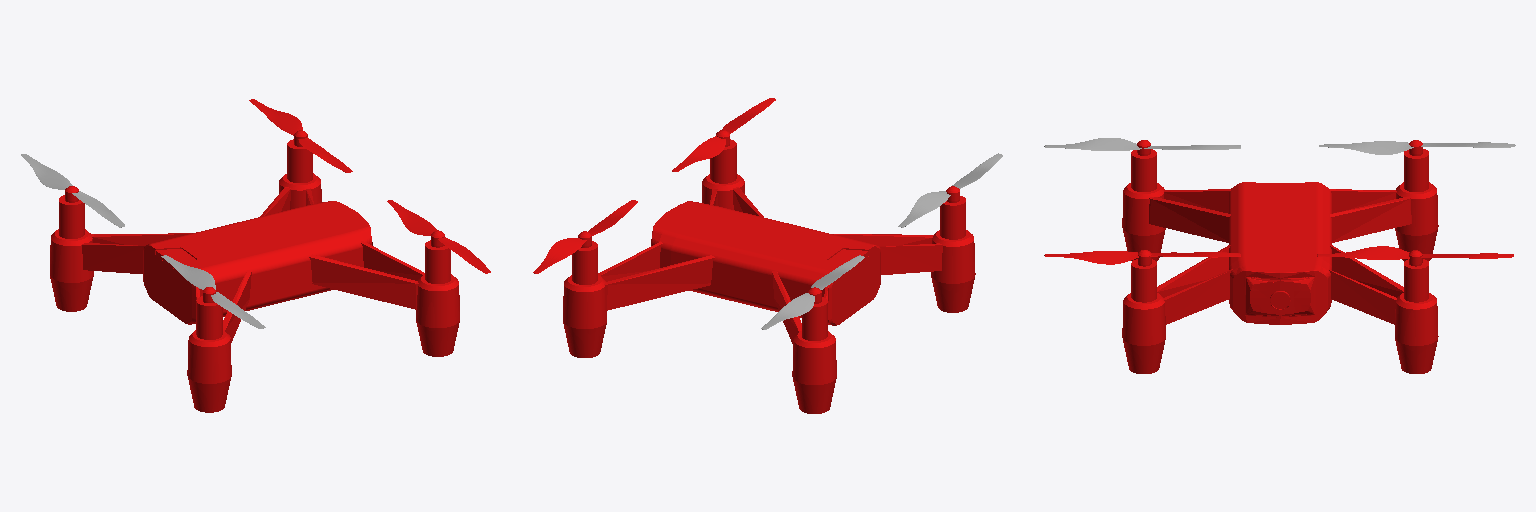
The robot description file, URDF, robot "iris":
<?xml version="1.0" ?>
<robot name="iris">

  <material name="grey">
    <color rgba=".7 .7 .7 1"/>
  </material> 

  <material name="green">
    <color rgba=".1 .8 .1 1"/>
  </material> 

  <material name="blue">
    <color rgba=".3 .5 .8 1"/>
  </material> 

  <material name="red">
    <color rgba=".9 .1 .1 1"/>
  </material> 

  <joint name="rotor_0_joint" type="revolute">
    <parent link="base_link"/>
    <child link="rotor_0"/>
    <origin xyz="0.0628  -0.0698   0.013" rpy="0 0 0"/>
    <axis xyz="0 0 1"/>
    <limit lower="-1e+16" upper="1e+16" effort="0.0" velocity="0.0"/>
  </joint>
  <joint name="rotor_1_joint" type="revolute">
    <parent link="base_link"/>
    <child link="rotor_1"/>
    <origin xyz="-0.0698   0.0705    0.013" rpy="0 0 0"/>
    <axis xyz="0 0 1"/>
    <limit lower="-1e+16" upper="1e+16" effort="0.0" velocity="0.0"/>
  </joint>
  <joint name="rotor_2_joint" type="revolute">
    <parent link="base_link"/>
    <child link="rotor_2"/>
    <origin xyz="0.0628  0.0698  0.013" rpy="0 0 0"/>
    <axis xyz="0 0 1"/>
    <limit lower="-1e+16" upper="1e+16" effort="0.0" velocity="0.0"/>
  </joint>
  <joint name="rotor_3_joint" type="revolute">
    <parent link="base_link"/>
    <child link="rotor_3"/>
    <origin xyz="-0.0688  -0.0698   0.013" rpy="0 0 0"/>
    <axis xyz="0 0 1"/>
    <limit lower="-1e+16" upper="1e+16" effort="0.0" velocity="0.0"/>
  </joint>
  <link name="base_link">
    <!-- <inertial>
      <mass value="1.5"/>
      <origin xyz="0 0 0" rpy="0 0 0"/>
      <inertia ixx="0.029125" ixy="0" ixz="0" iyy="0.029125" iyz="0" izz="0.055225"/>
    </inertial> -->
    <collision name="base_link_inertia_collision">
      <origin xyz="0 0 -0.015" rpy="0 0 0"/>
      <geometry>
        <box size="0.10 0.04 0.03"/>
      </geometry>
    </collision>
    <visual>
      <origin xyz="0 0 0" rpy="0 0 0"/>
      <geometry>
        <!-- <mesh filename="package://tello_sim/model/meshes/tello_bo dy.stl" scale="1 1 1"/> -->
        <mesh filename="package://tello_sim/model/meshes/tello_body.dae" scale="1 1 1"/>
      </geometry>
      <material name="red"/> <!-- Added by [author] -->
    </visual>
  </link>
  <link name="rotor_0">
    <inertial>
      <mass value="0.005"/>
      <origin xyz="0 0 0" rpy="0 0 0"/>
      <inertia ixx="9.75e-07" ixy="0" ixz="0" iyy="0.000273104" iyz="0" izz="0.000274004"/>
    </inertial>
    <collision name="rotor_0_collision">
      <origin xyz="0 0 0" rpy="0 0 0"/>
      <geometry>
        <cylinder radius="0.04" length="0.005"/>
      </geometry>
    </collision>
    <visual name="rotor_0_visual">
      <origin xyz="0 0 0" rpy="0 0 0"/>
      <geometry>
        <mesh filename="package://tello_sim/model/meshes/tello_prop_ccw.stl" scale="1 1 1"/>
        <!-- <mesh filename="package://tello_sim/model/meshes/tello_prop_ccw.dae" scale="1 1 1"/> -->
      </geometry>
      <material name="red"/> <!-- Added by [author] -->
    </visual>
  </link>
  <link name="rotor_1">
    <inertial>
      <mass value="0.005"/>
      <origin xyz="0 0 0" rpy="0 0 0"/>
      <inertia ixx="9.75e-07" ixy="0" ixz="0" iyy="0.000273104" iyz="0" izz="0.000274004"/>
    </inertial>
    <collision name="rotor_1_collision">
      <origin xyz="0 0 0" rpy="0 0 0"/>
      <geometry>
        <cylinder radius="0.04" length="0.005"/>
      </geometry>
    </collision>
    <visual>
      <origin xyz="0 0 0" rpy="0 0 0"/>
      <geometry>
        <mesh filename="package://tello_sim/model/meshes/tello_prop_ccw.stl" scale="1 1 1"/>
        <!-- <mesh filename="package://tello_sim/model/meshes/tello_prop_ccw.dae" scale="1 1 1"/> -->
      </geometry>
      <material name="grey"/> <!-- Added by [author] -->
    </visual>
  </link>
  <link name="rotor_2">
    <inertial>
      <mass value="0.005"/>
      <origin xyz="0 0 0" rpy="0 0 0"/>
      <inertia ixx="9.75e-07" ixy="0" ixz="0" iyy="0.000273104" iyz="0" izz="0.000274004"/>
    </inertial>
    <collision name="rotor_2_collision">
      <origin xyz="0 0 0" rpy="0 0 0"/>
      <geometry>
        <cylinder radius="0.04" length="0.005"/>
      </geometry>
    </collision>
    <visual name="rotor_2_visual">
      <origin xyz="0 0 0" rpy="0 0 0"/>
      <geometry>
        <mesh filename="package://tello_sim/model/meshes/tello_prop_cw.stl" scale="1 1 1"/>
        <!-- <mesh filename="package://tello_sim/model/meshes/tello_prop_cw.dae" scale="1 1 1"/> -->
      </geometry>
      <material name="red"/> <!-- Added by [author] -->
    </visual>
  </link>
  <link name="rotor_3">
    <inertial>
      <mass value="0.005"/>
      <origin xyz="0 0 0" rpy="0 0 0"/>
      <inertia ixx="9.75e-07" ixy="0" ixz="0" iyy="0.000273104" iyz="0" izz="0.000274004"/>
    </inertial>
    <collision name="rotor_3_collision">
      <origin xyz="0 0 0" rpy="0 0 0"/>
      <geometry>
        <cylinder radius="0.04" length="0.005"/>
      </geometry>
    </collision>
    <visual name="rotor_3_visual">
      <origin xyz="0 0 0" rpy="0 0 0"/>
      <geometry>
        <mesh filename="package://tello_sim/model/meshes/tello_prop_cw.stl" scale="1 1 1"/>
        <!-- <mesh filename="package://tello_sim/model/meshes/tello_prop_cw.dae" scale="1 1 1"/> -->
      </geometry>
      <material name="grey"/> <!-- Added by [author] -->
    </visual>
  </link>
</robot>

--- Facts derived from the render (not from the file) ---
3 views of the same robot in one strip: view 1: azimuth 30°, elevation 25°; view 2: azimuth 150°, elevation 25°; view 3: azimuth 270°, elevation 25° (orthographic).
Robot: iris — 5 links, 4 joints (4 revolute); root link base_link; default pose: every joint at zero.
Links seen in each view (by area): view 1: base_link, rotor_1, rotor_3, rotor_0, rotor_2; view 2: base_link, rotor_2, rotor_1, rotor_3, rotor_0; view 3: base_link, rotor_1, rotor_2, rotor_0, rotor_3.
Boxes of the visible links, left/top/right/bottom form: base_link: left=50, top=130, right=459, bottom=412; rotor_1: left=21, top=154, right=124, bottom=227; rotor_3: left=161, top=255, right=265, bottom=328; rotor_0: left=387, top=200, right=490, bottom=273; rotor_2: left=249, top=99, right=352, bottom=172; base_link: left=563, top=130, right=975, bottom=413; rotor_2: left=533, top=200, right=637, bottom=273; rotor_1: left=761, top=255, right=864, bottom=329; rotor_3: left=898, top=153, right=1002, bottom=227; rotor_0: left=672, top=98, right=775, bottom=171; base_link: left=1122, top=140, right=1438, bottom=373; rotor_1: left=1319, top=141, right=1515, bottom=154; rotor_2: left=1317, top=246, right=1513, bottom=259; rotor_0: left=1044, top=251, right=1240, bottom=264; rotor_3: left=1044, top=138, right=1240, bottom=150.
Size in the robot's own frame: 0.1559 by 0.241 by 0.0666 metres.
5 mesh visuals loaded from 3 distinct referenced files (2 binary STL, 1 Collada DAE).
